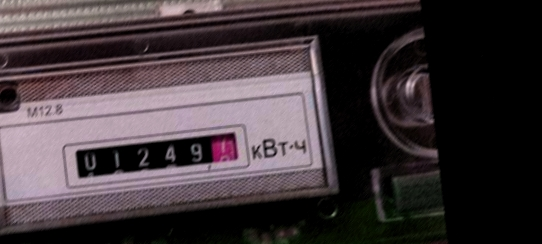0: (82, 149, 98, 171)
1: (109, 147, 123, 169)
2: (133, 144, 152, 168)
4: (162, 141, 177, 163)
7: (216, 132, 231, 154)
9: (188, 140, 204, 163)
screen: (58, 119, 254, 190)
